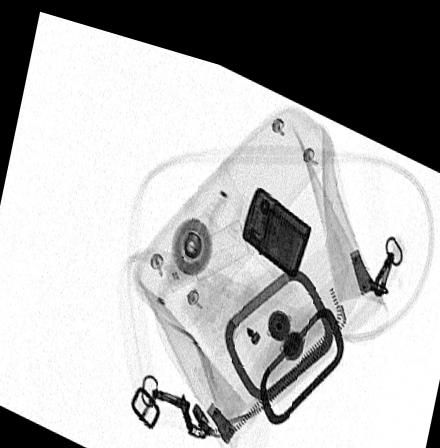Lighter: (239, 171, 311, 260)
